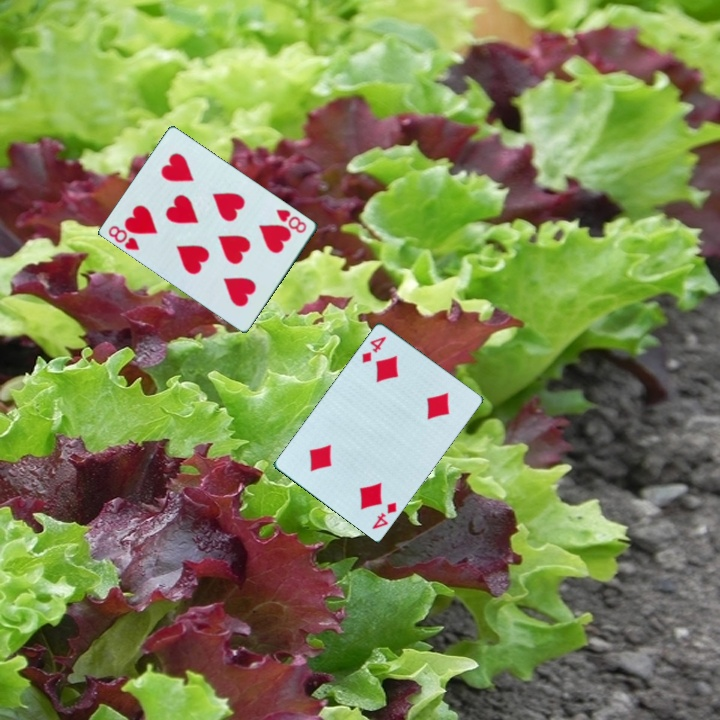4d: (368, 498, 400, 532), (358, 333, 389, 366)
8h: (105, 222, 143, 253), (273, 205, 310, 236)
